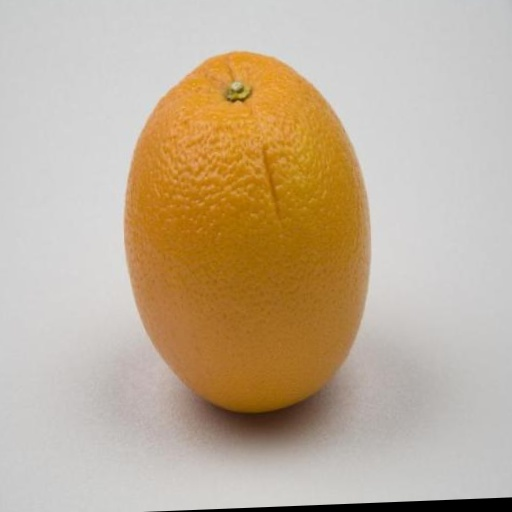fruit: (124, 52, 369, 412)
